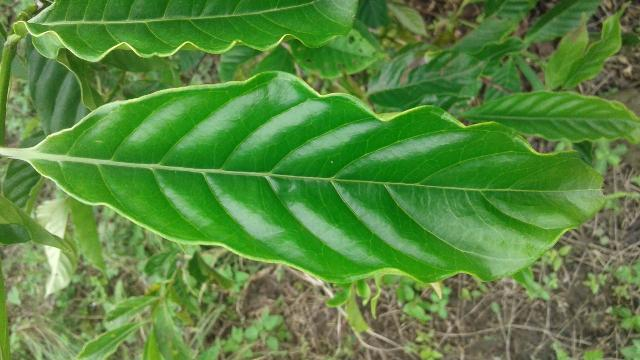healthy: (28, 69, 605, 281)
